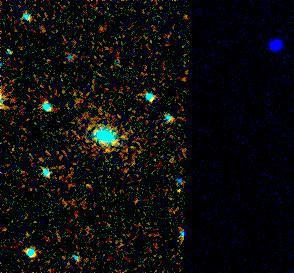star: (157, 171, 187, 201)
